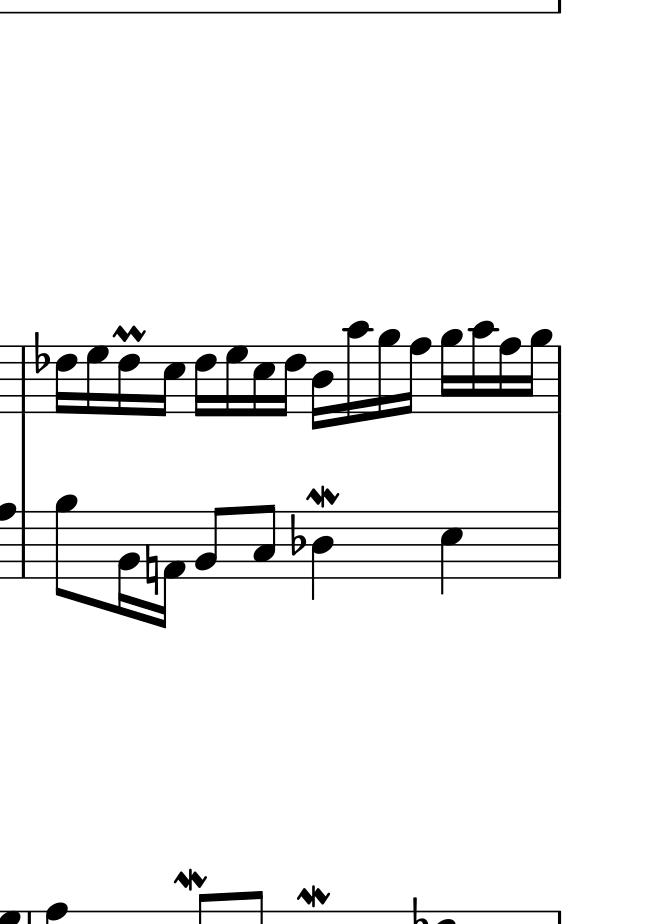16_1: (157, 509, 186, 631)
16_10: (345, 318, 372, 426), (470, 320, 497, 415)
16_2: (116, 510, 142, 618)
16_4: (310, 344, 334, 432)
16_5: (154, 345, 186, 418), (251, 344, 276, 419)
16_6: (277, 342, 307, 418), (193, 342, 217, 420), (116, 344, 141, 418), (54, 343, 77, 416)
16_7: (223, 341, 247, 420), (85, 345, 108, 417)
16_8: (401, 338, 432, 416), (497, 335, 521, 417)
16_9: (523, 325, 552, 417), (376, 325, 400, 424), (438, 326, 462, 418)
4_4: (311, 512, 335, 601)
4_5: (438, 510, 465, 595)
8_2: (195, 506, 226, 578)
8_3: (251, 504, 276, 581)
8_9: (53, 493, 76, 601)
Flat: (289, 511, 306, 558), (33, 331, 49, 376)
Mordent: (295, 884, 333, 908), (305, 484, 341, 508), (173, 868, 208, 891)
Natural: (144, 544, 159, 597)
Single_barline: (551, 512, 567, 577), (552, 346, 567, 413), (15, 511, 30, 576), (15, 346, 29, 414), (111, 322, 149, 343)
